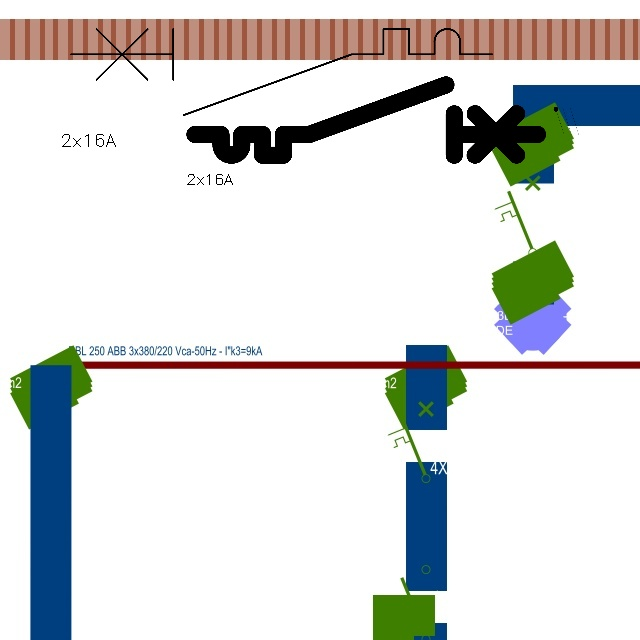interruptor_termomagnetico: (60, 18, 503, 126), (186, 76, 546, 164)
